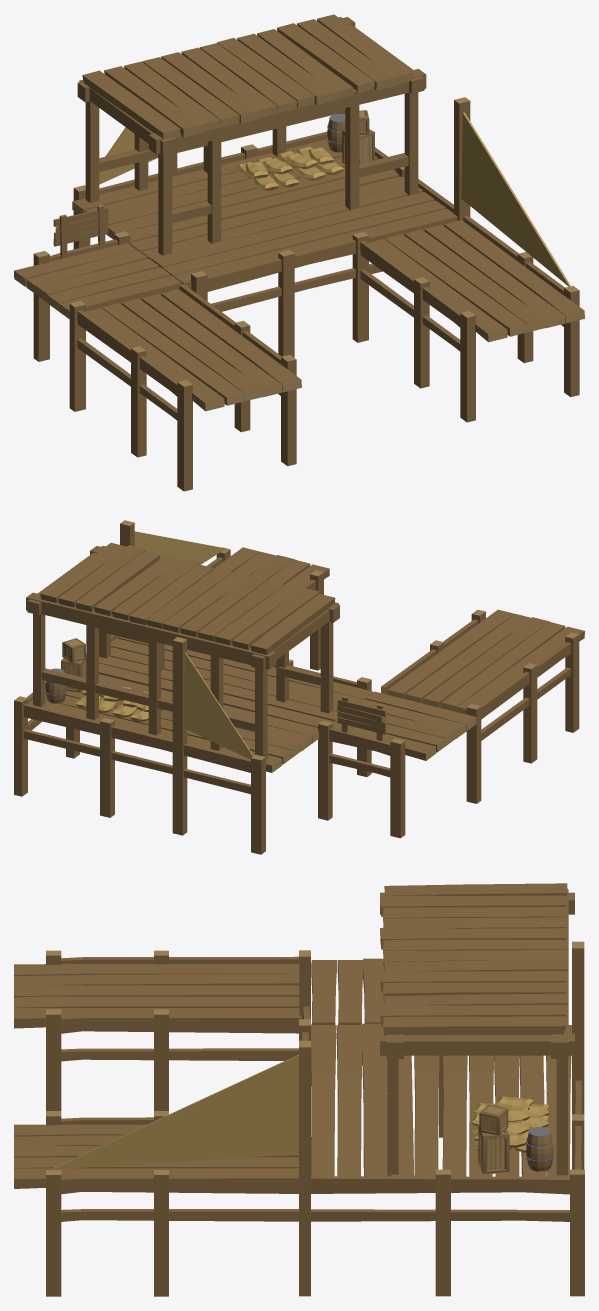
File: Port_FirstAge_Level3.glb
The picture shows the model from 3 angles, top to bottom: view 1: azimuth 30°, elevation 25°; view 2: azimuth 150°, elevation 25°; view 3: azimuth 270°, elevation 25°; orthographic projection. The views are drawn at different scales.
Visible parts, largest first — view 1: Port_FirstAge_Level3; view 2: Port_FirstAge_Level3; view 3: Port_FirstAge_Level3.
Part boxes in pixels (x1=…): Port_FirstAge_Level3: x1=14, y1=14, x2=584, y2=491; Port_FirstAge_Level3: x1=14, y1=520, x2=584, y2=854; Port_FirstAge_Level3: x1=14, y1=883, x2=584, y2=1296.
Size of the model in its own units: 1.84 by 0.9906 by 1.98.
